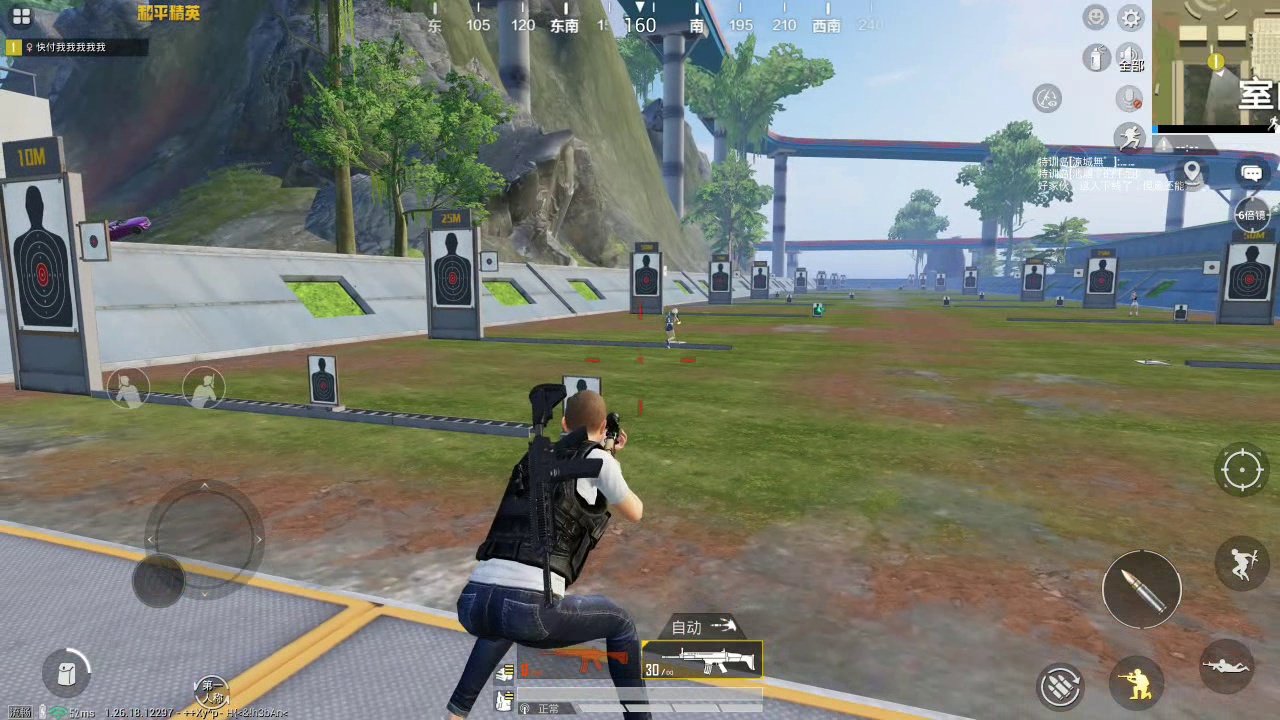enemy: (661, 304, 683, 349)
